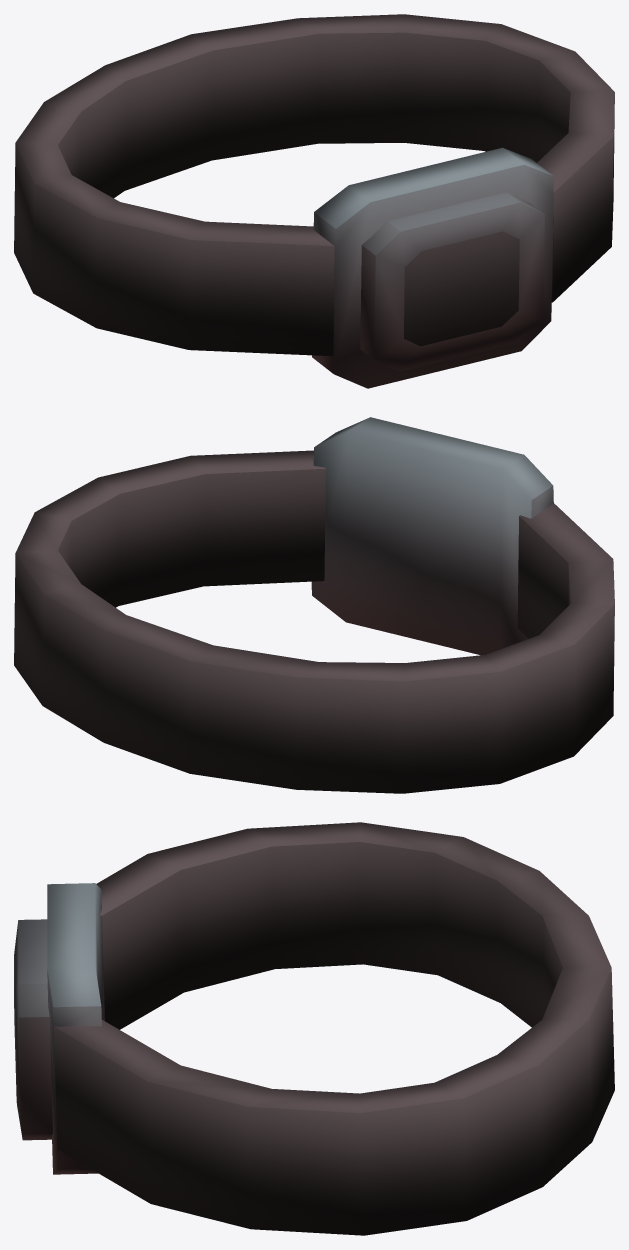
File: Equip_Belt_01_1.FBX
3 renders of one model, top to bottom at view 1: azimuth 30°, elevation 25°; view 2: azimuth 150°, elevation 25°; view 3: azimuth 270°, elevation 25°, orthographic. The views are drawn at different scales.
Visible parts, largest first — view 1: Equip_Belt_01_1; view 2: Equip_Belt_01_1; view 3: Equip_Belt_01_1.
Part boxes in pixels (box(x1,y1,x2,y2)): Equip_Belt_01_1: box(14, 14, 614, 388); Equip_Belt_01_1: box(14, 417, 614, 793); Equip_Belt_01_1: box(14, 822, 614, 1235).
Bounding box in the file's own units: 22.25 × 7.45 × 19.44.
